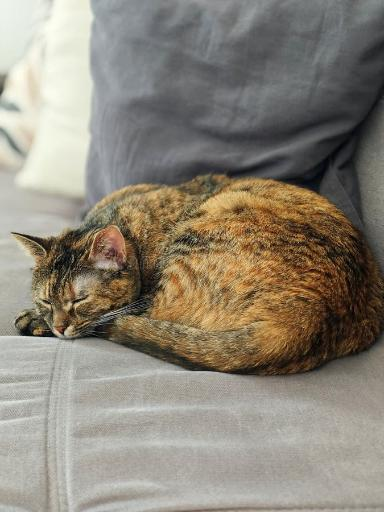cat_sleeping: (12, 175, 384, 375)
